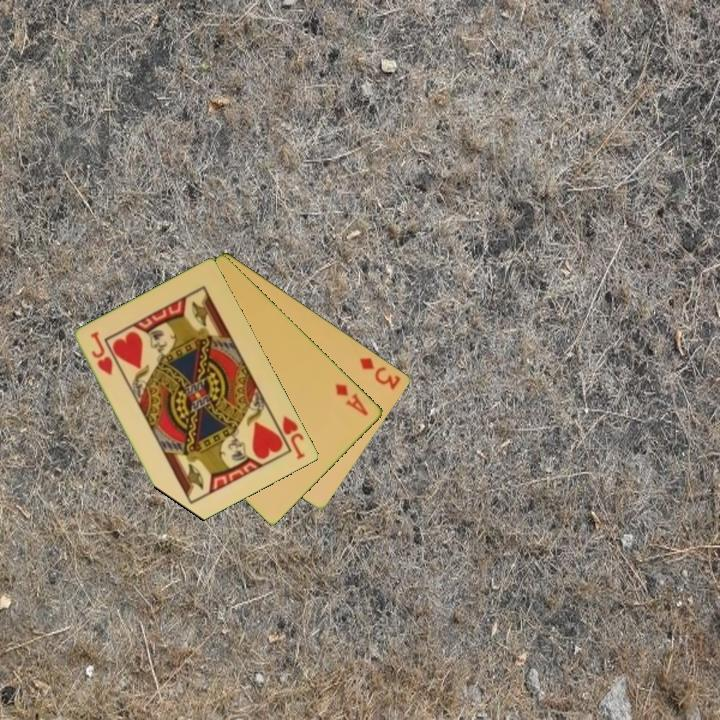3d: (356, 354, 404, 393)
Ad: (332, 380, 372, 419)
Jh: (270, 412, 308, 462), (87, 328, 116, 378)
